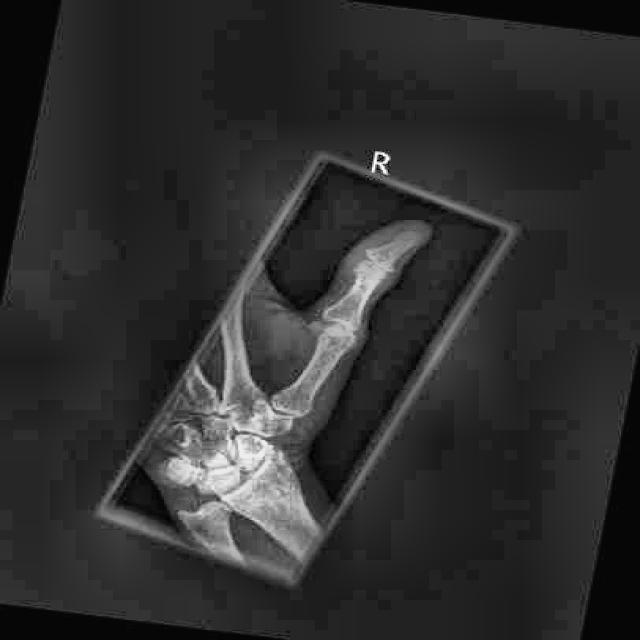fingers positive: (308, 323, 362, 359), (346, 254, 392, 289)
